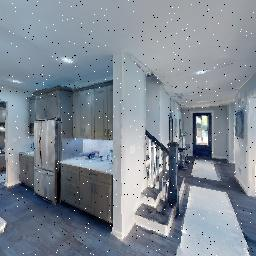door: (189, 112, 217, 161)
stairs: (137, 102, 185, 241)
